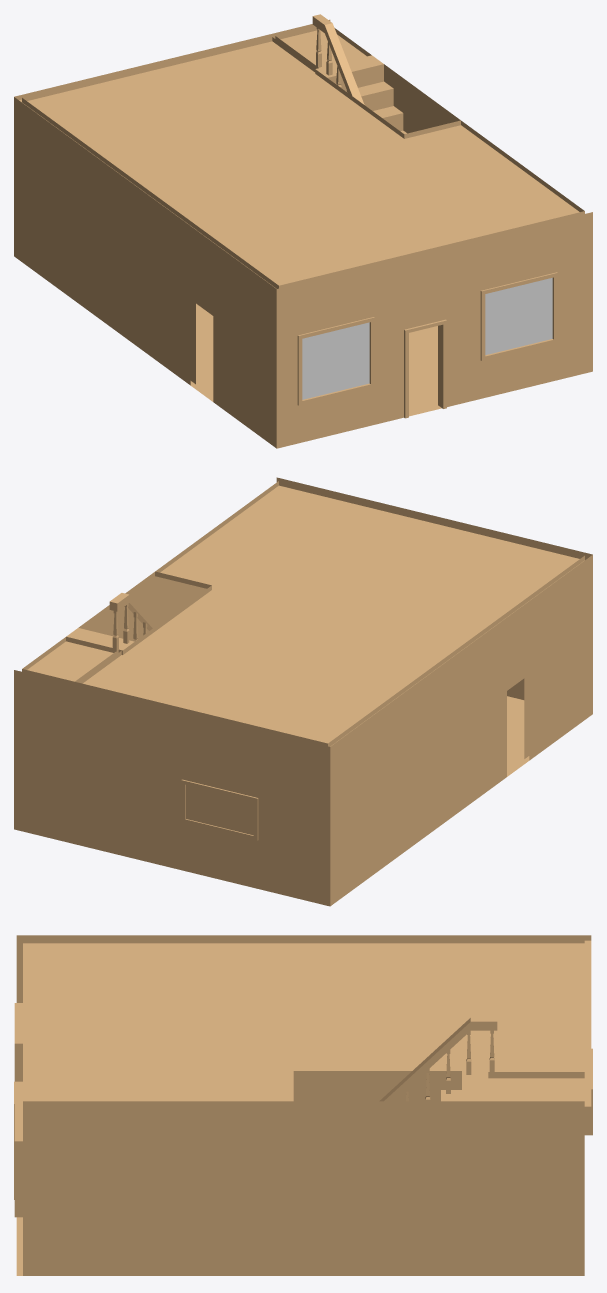
File: PrimerPiso.fbx
3 renders of one model, top to bottom at view 1: azimuth 30°, elevation 25°; view 2: azimuth 150°, elevation 25°; view 3: azimuth 270°, elevation 25°, orthographic. The views are drawn at different scales.
Visible parts, largest first — view 1: Pared_PP, Techo_PP, Cristasl, Cristal2, Suelo_PP, Escaleras_PP, MarcoVentanaA, MarcoVentanaB, Puerta_PP, Barandal; view 2: Pared_PP, Techo_PP, Cube.060, Suelo_PP, MarcoVentana2, Escaleras_PP, Barandal; view 3: Pared_PP, Techo_PP, Barandal, MarcoVentanaA, Escaleras_PP, MarcoVentanaB, Pared_Escaleras_PP, Postes.
Part boxes in pixels (x1,y1,x2,y2): Pared_PP: (14, 19, 592, 448); Techo_PP: (19, 30, 579, 288); Cristasl: (302, 322, 369, 399); Cristal2: (485, 278, 552, 354); Suelo_PP: (190, 303, 441, 416); Escaleras_PP: (315, 55, 406, 133); MarcoVentanaA: (480, 272, 557, 360); MarcoVentanaB: (297, 317, 374, 405); Puerta_PP: (404, 319, 446, 418); Barandal: (312, 14, 364, 104); Pared_PP: (14, 477, 592, 906); Techo_PP: (27, 485, 584, 746); Cube.060: (186, 785, 253, 835); Suelo_PP: (507, 696, 529, 776); MarcoVentana2: (181, 779, 258, 840); Escaleras_PP: (66, 628, 134, 654); Barandal: (109, 593, 156, 630); Pared_PP: (16, 935, 591, 1275); Techo_PP: (23, 940, 591, 1106); Barandal: (379, 1017, 497, 1101); MarcoVentanaA: (14, 1100, 22, 1217); Escaleras_PP: (441, 1071, 488, 1101); MarcoVentanaB: (14, 1003, 22, 1081); Pared_Escaleras_PP: (488, 1072, 584, 1078); Postes: (405, 1031, 471, 1101).
Size of the model in its own units: 829 by 529 by 1203.
